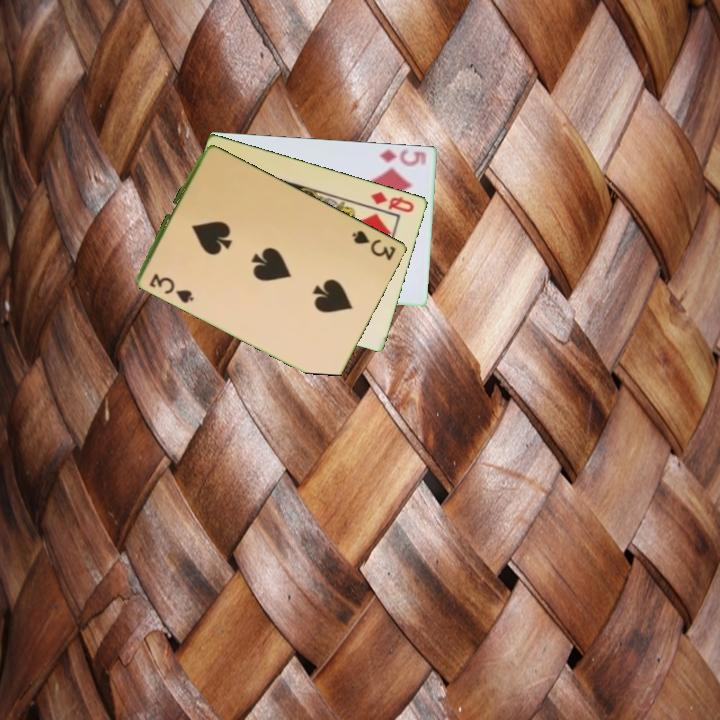3s: (348, 226, 399, 263), (146, 270, 195, 306)
5d: (376, 145, 430, 169)
Qd: (367, 188, 418, 215)
